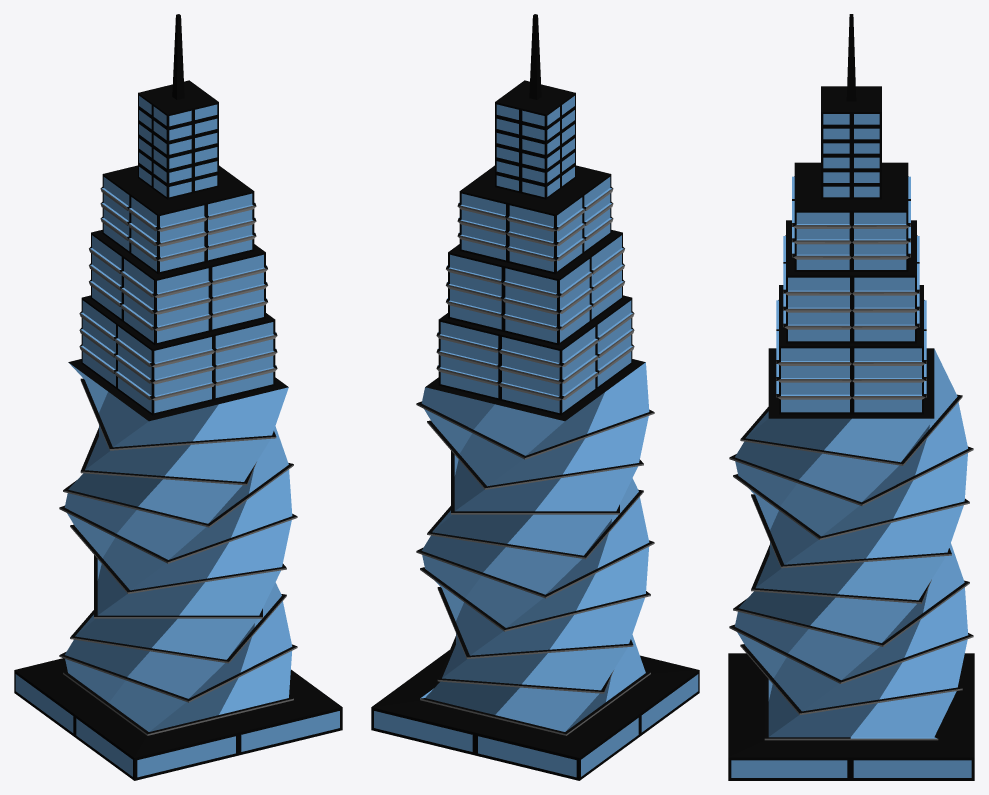
The model's file is biurowiec1.fbx.
3 views of the same model, side by side, from view 1: azimuth 30°, elevation 25°; view 2: azimuth 150°, elevation 25°; view 3: azimuth 270°, elevation 25° (orthographic). The views are drawn at different scales.
Visible parts, largest first — view 1: Cube; view 2: Cube; view 3: Cube.
Boxes of the visible parts, x1,y1,x2,y2 form: Cube: (14,14,342,780); Cube: (371,14,699,780); Cube: (728,14,974,780).
Size of the model in its own units: 659 by 2107 by 659.
